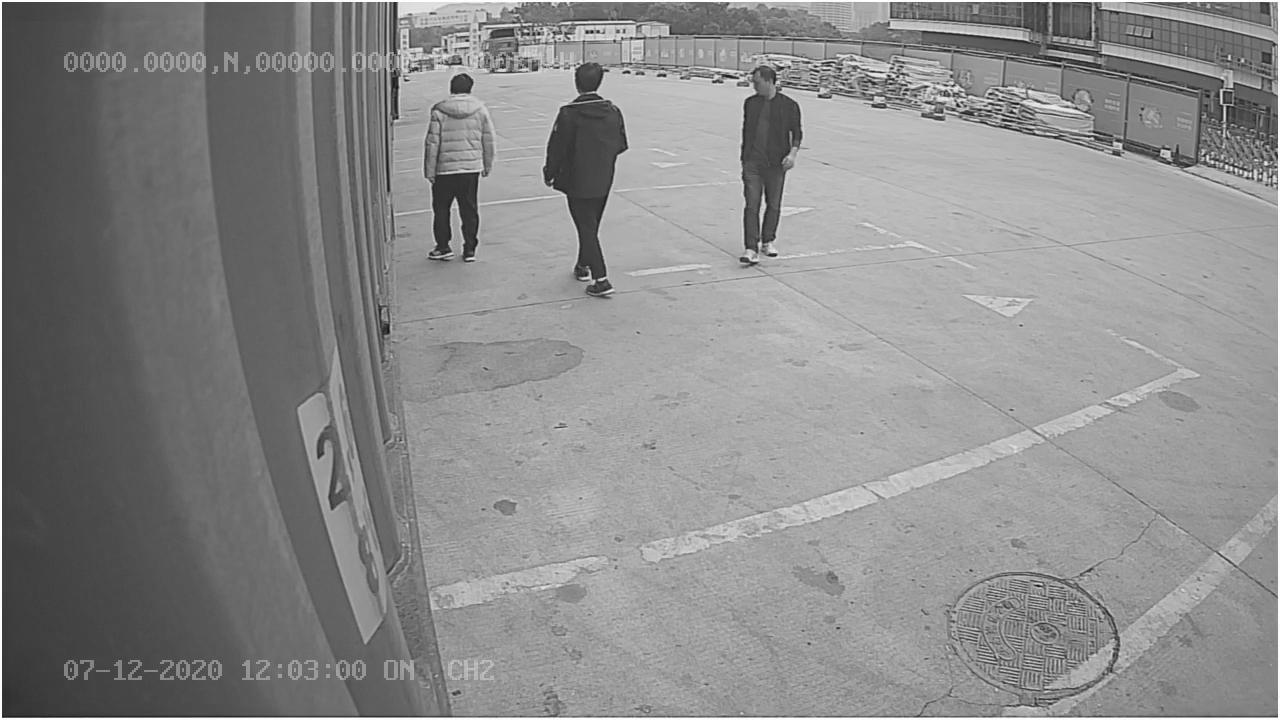person: (541, 62, 633, 297), (733, 56, 806, 266)
